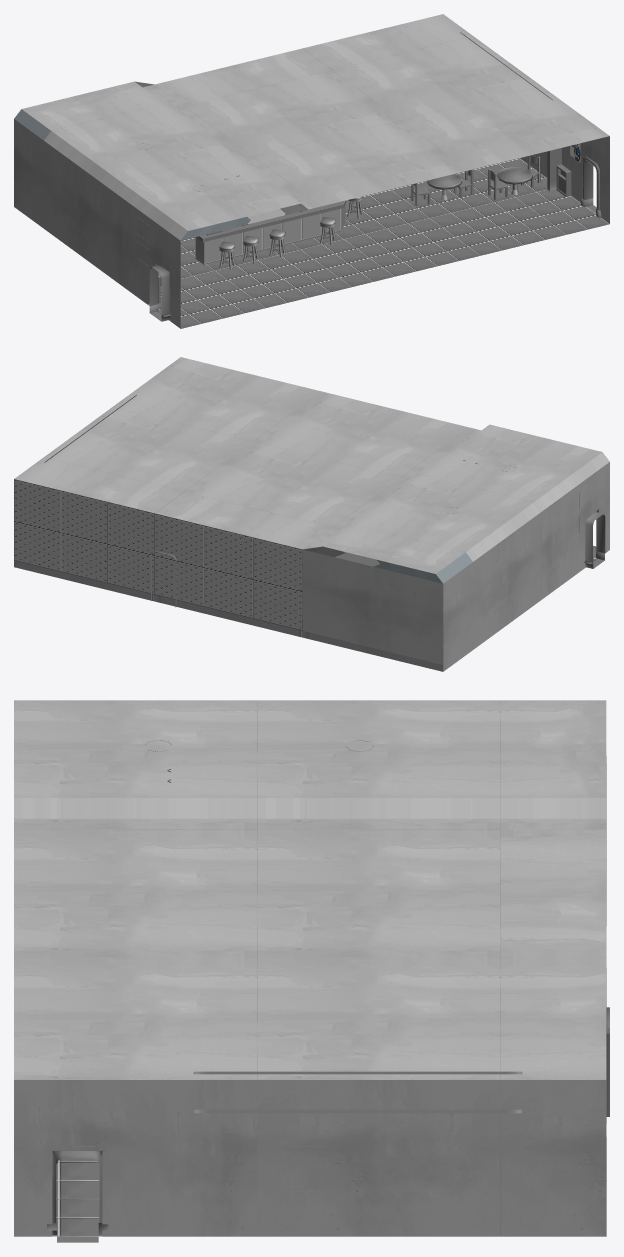
The model's file is MSH_Bar_room_L2_R3_optimized.fbx.
The picture shows the model from 3 angles, top to bottom: view 1: azimuth 30°, elevation 25°; view 2: azimuth 150°, elevation 25°; view 3: azimuth 270°, elevation 25°; orthographic projection. The views are drawn at different scales.
Parts seen in each view (by area): view 1: lightmap1, lightmap2, lightmap-1; view 2: lightmap1, lightmap-1; view 3: lightmap1, lightmap2.
Boxes of the visible parts, bbox=[...] form: lightmap1: bbox=[14, 14, 609, 328]; lightmap2: bbox=[137, 32, 580, 303]; lightmap-1: bbox=[149, 161, 596, 321]; lightmap1: bbox=[14, 357, 609, 671]; lightmap-1: bbox=[585, 512, 605, 568]; lightmap1: bbox=[14, 700, 606, 1236]; lightmap2: bbox=[145, 740, 609, 1191].
Size of the model in its own units: 30.91 by 6.43 by 20.24.
Materials: 6 (5 with a texture image).
